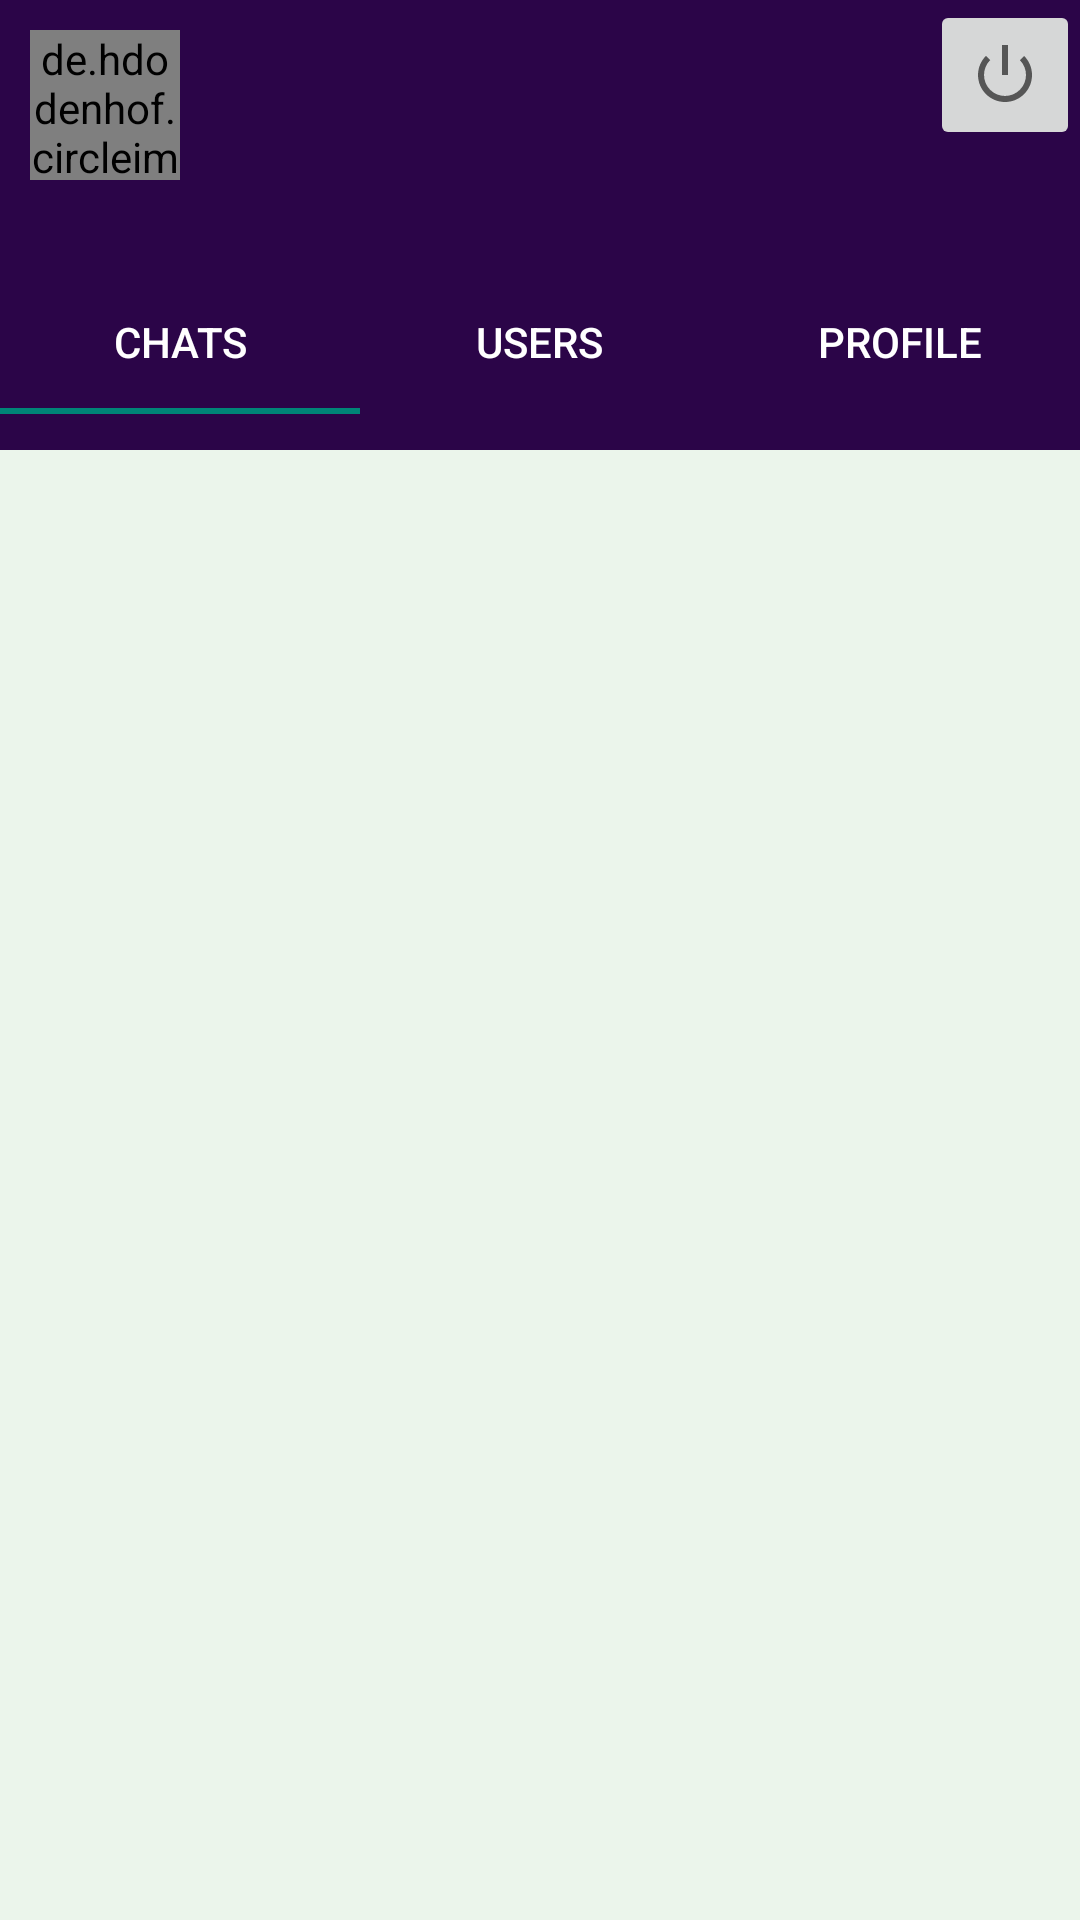

Screen size 1080w x 1920h. Icon name, then its box in pixels as (x1, y1, x2, y2):
lock power off: (942, 18, 1068, 132)
